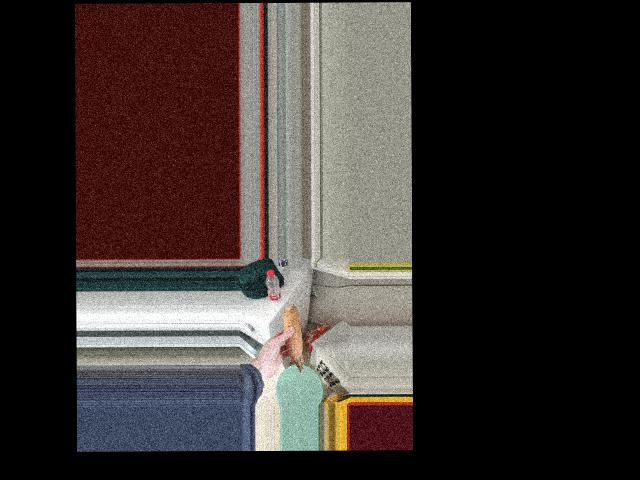sweet_potato: (283, 308, 303, 374)
